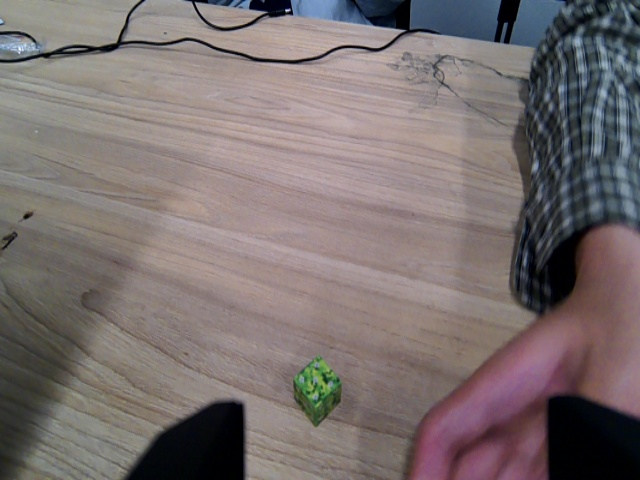grass: (291, 353, 345, 428)
